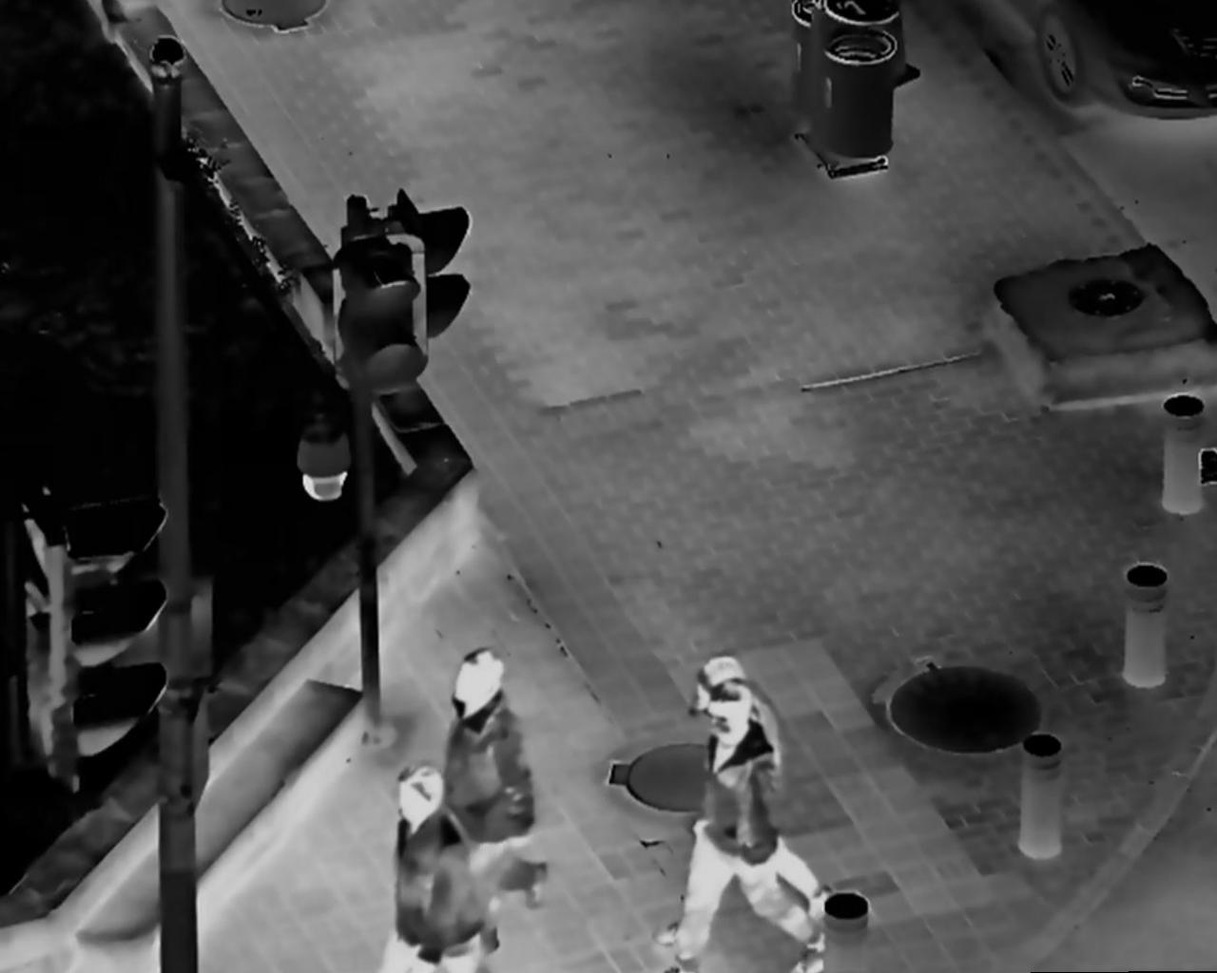person: (668, 678, 822, 973), (683, 657, 830, 918), (430, 642, 551, 910), (378, 760, 486, 973)
